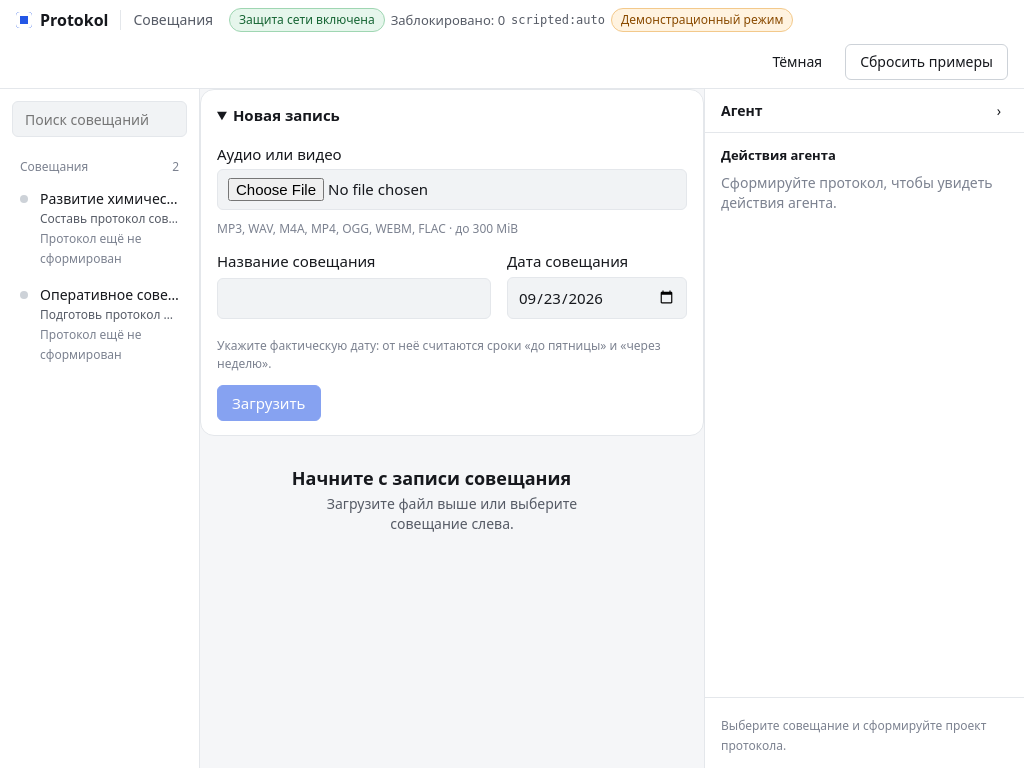
Dashboard › should show the real meeting-load error and keep generation disabled
Click the text "Развитие химической промышленности и ТБ": (110, 199) [40,189,179,209]
(page scrolled)
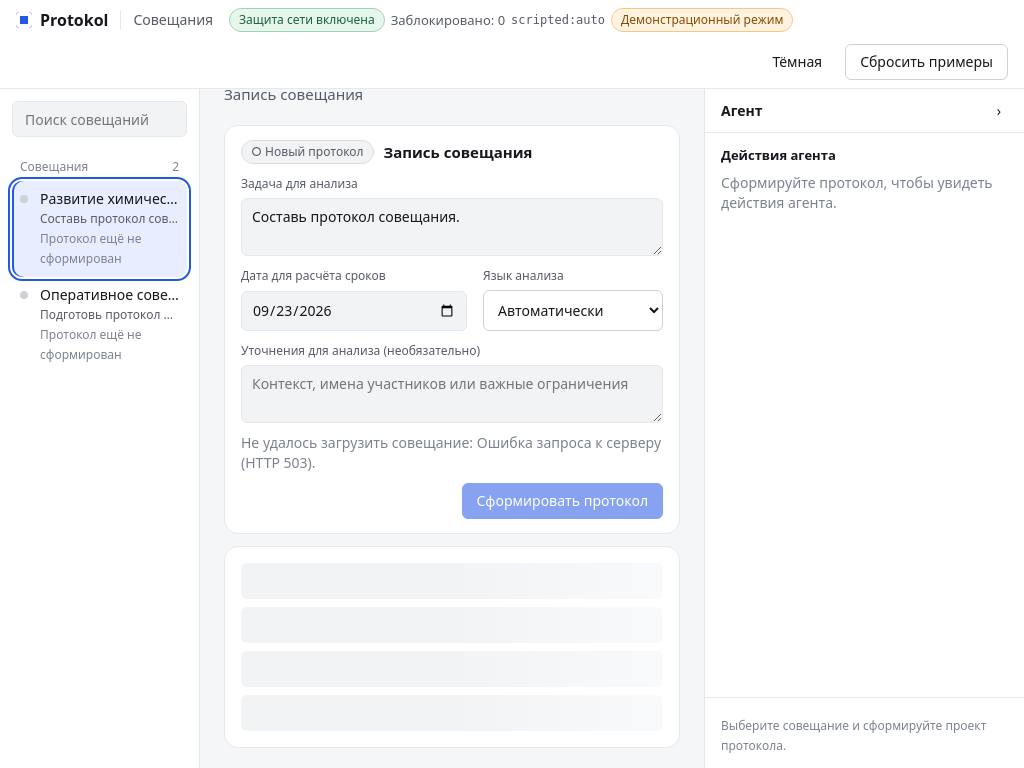
Check: the button "Сформировать протокол" is disabled, box [462,483,663,519]
Check: the text "Не удалось загрузить совещание: Ошибка запроса к серверу (HTTP 503)." is shown, box [241,433,663,473]
